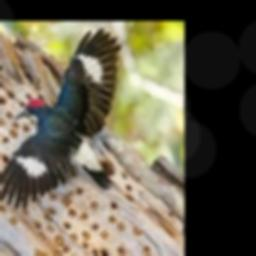Woodpecker: (0, 28, 121, 209)
